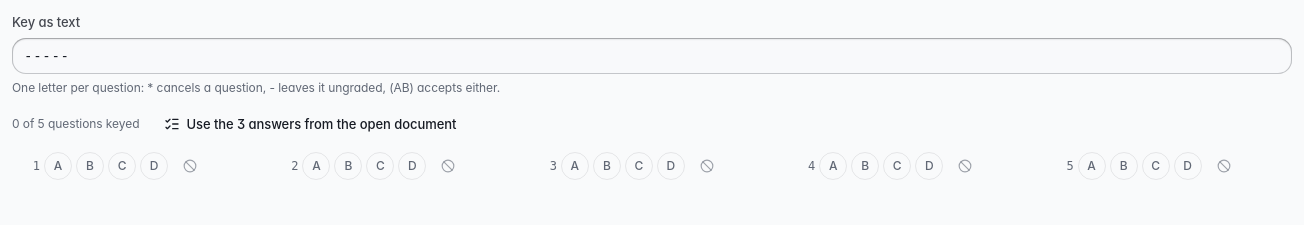
Test: AnswerKeyEditor › marks letters the sheet does not have instead of dropping them silently
Replace the text in the field labelled "Key as text" with "AEQ". click: (652, 56)
box: [12,38,1292,74]
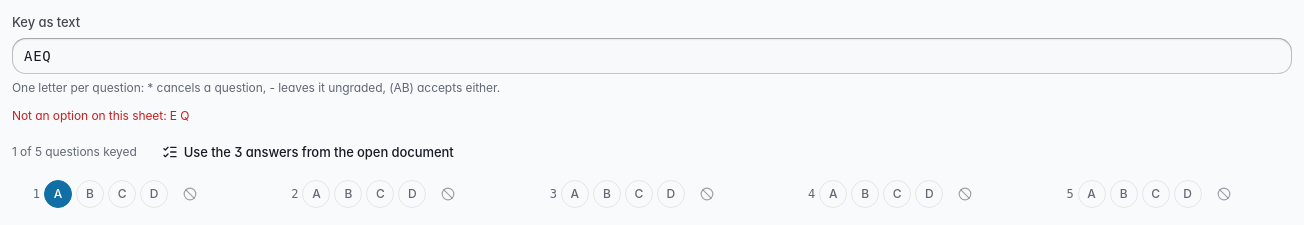
Expected: the text "Not an option on this sheet: E Q" is shown, [12,108,189,123]
